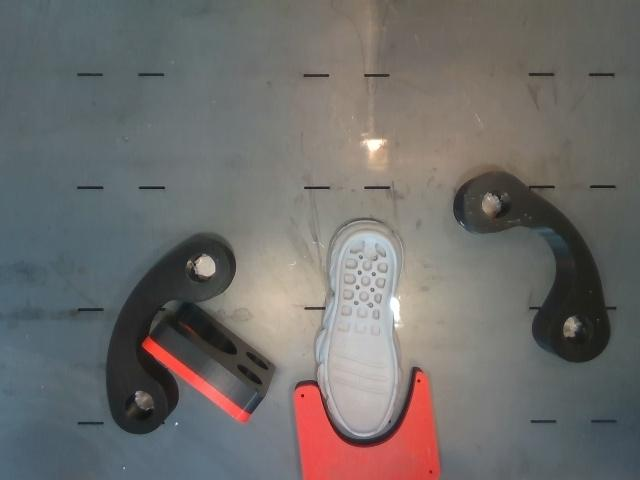shoes: (328, 234, 395, 434)
